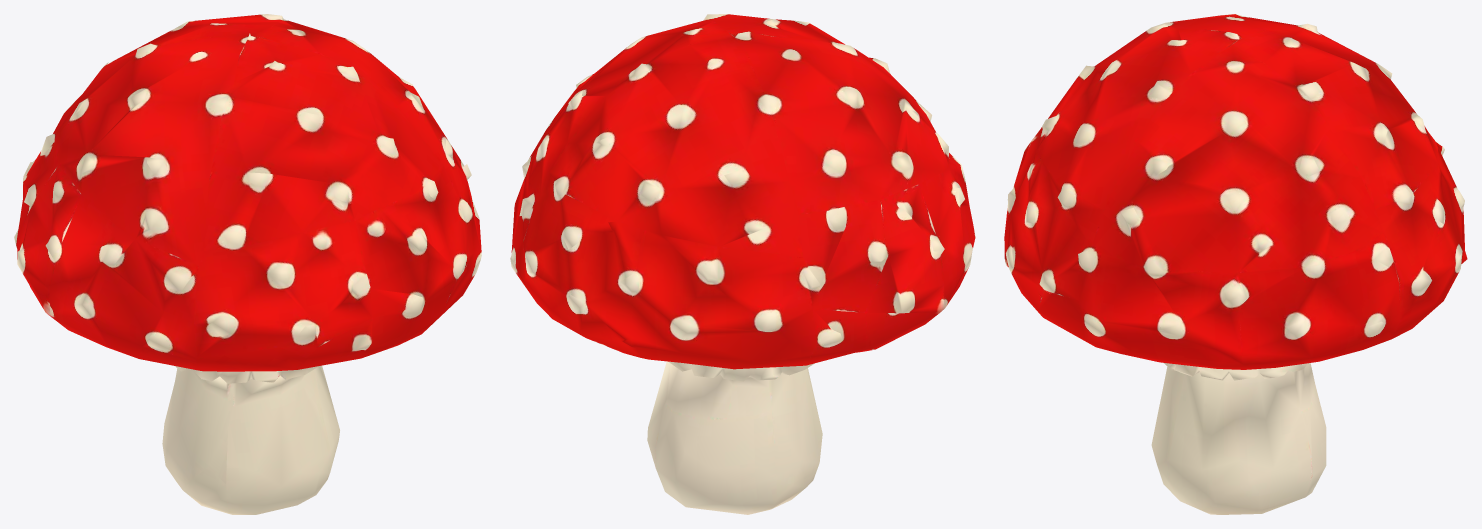
File: mushroom_meshy.glb
3 views of the same model, side by side, from view 1: azimuth 30°, elevation 25°; view 2: azimuth 150°, elevation 25°; view 3: azimuth 270°, elevation 25° (orthographic).
Bounding box in the file's own units: 1.72 × 1.89 × 1.73.
Materials: 1 (1 with a texture image).
